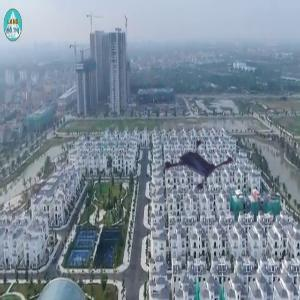drone: (152, 132, 228, 208)
